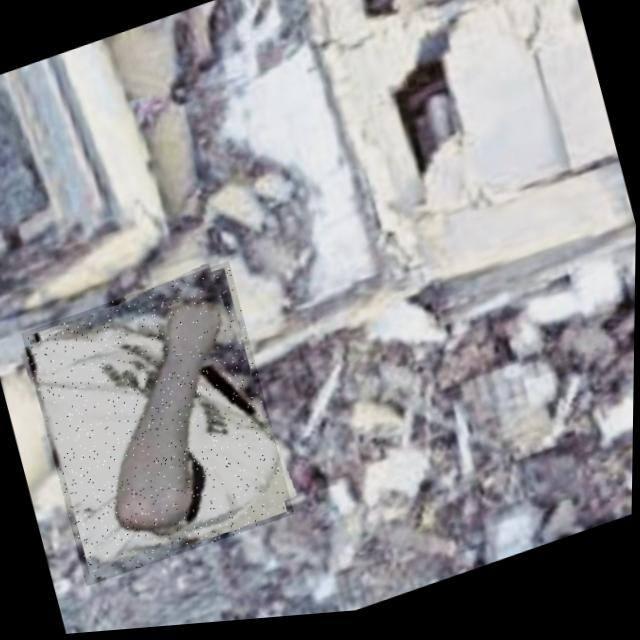Person in Rubble: (18, 260, 298, 592)
